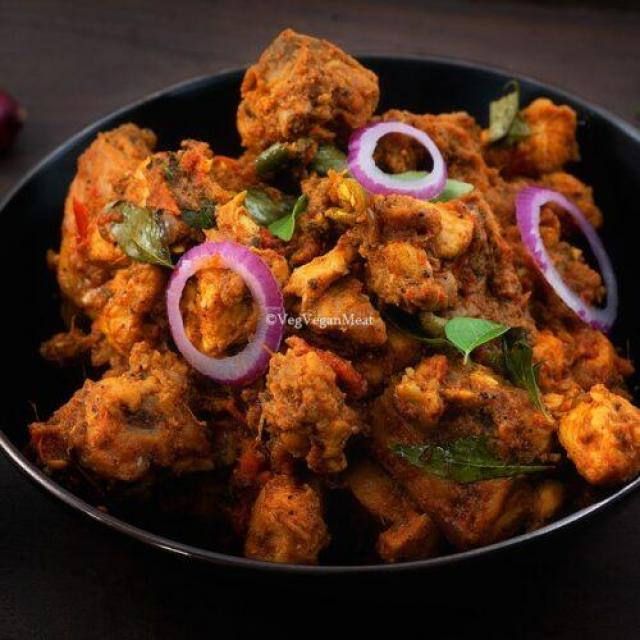chicken: (45, 37, 640, 536)
